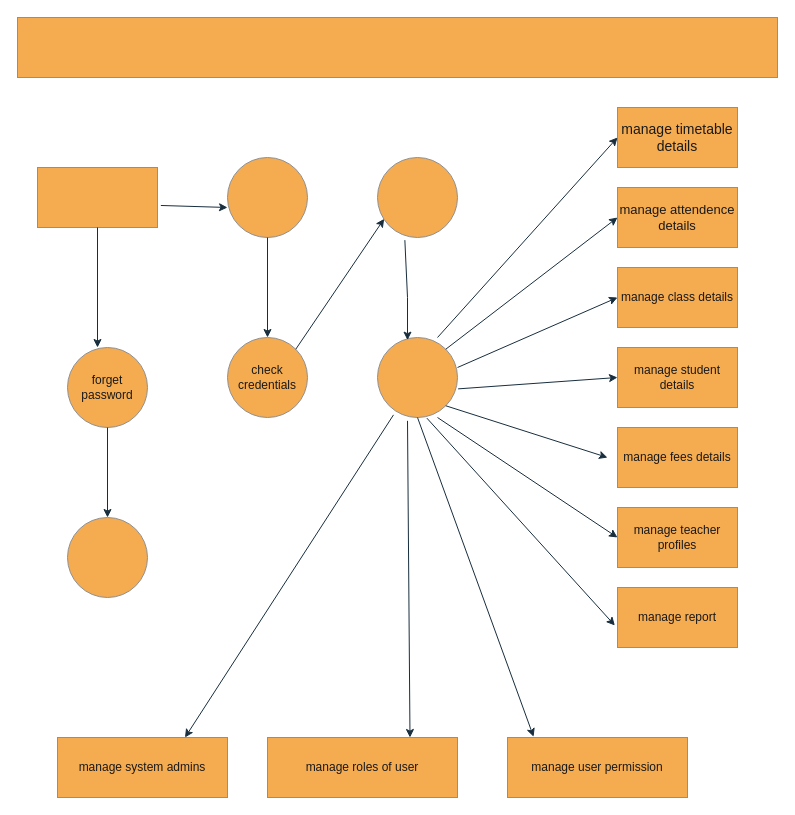
The diagram is 795 pixels wide and 815 high, and some of its shapes have lost their labels. The shapes that lost their labels are listed below. From the top down, each one's centre as x and y in pixels, then its label:
At (397,47): "student information system".
At (97,197): "admin".
At (267,197): "login to system".
At (417,197): "check roles of access".
At (417,377): "manage modules".
At (107,557): "send Enail to user".
